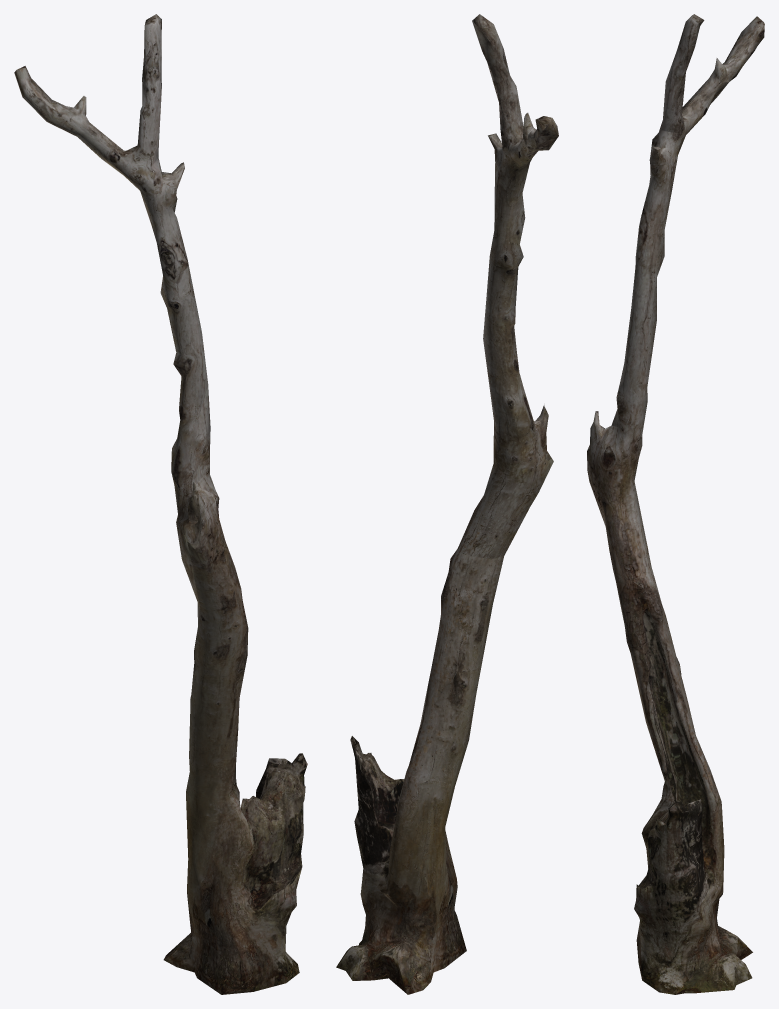
The model's file is P_DeadTree02.fbx.
The picture shows the model from 3 angles, left to right: view 1: azimuth 30°, elevation 25°; view 2: azimuth 150°, elevation 25°; view 3: azimuth 270°, elevation 25°; orthographic projection. The views are drawn at different scales.
Visible parts, largest first — view 1: P_DeadTree02; view 2: P_DeadTree02; view 3: P_DeadTree02.
Part boxes in pixels (x1,y1,x2,y2): P_DeadTree02: [14, 14, 307, 994]; P_DeadTree02: [336, 14, 558, 994]; P_DeadTree02: [587, 14, 764, 994].
Size of the model in its own units: 192 by 730 by 128.
